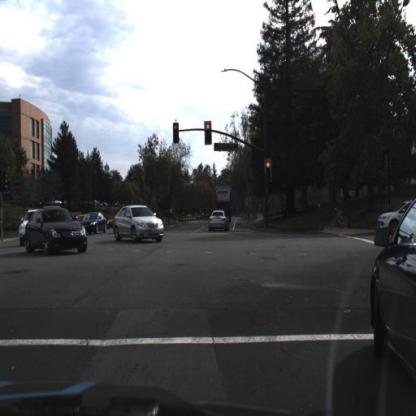biker: (329, 198, 352, 232), (331, 197, 349, 233)
car: (370, 192, 416, 403), (25, 207, 88, 256), (114, 204, 165, 243), (377, 199, 411, 234), (210, 207, 229, 233)
trafficLight-Red: (264, 159, 274, 188), (203, 120, 213, 147)
trafficLight-RedLeft: (173, 121, 181, 147)
truck: (215, 184, 233, 220), (214, 184, 232, 219)
